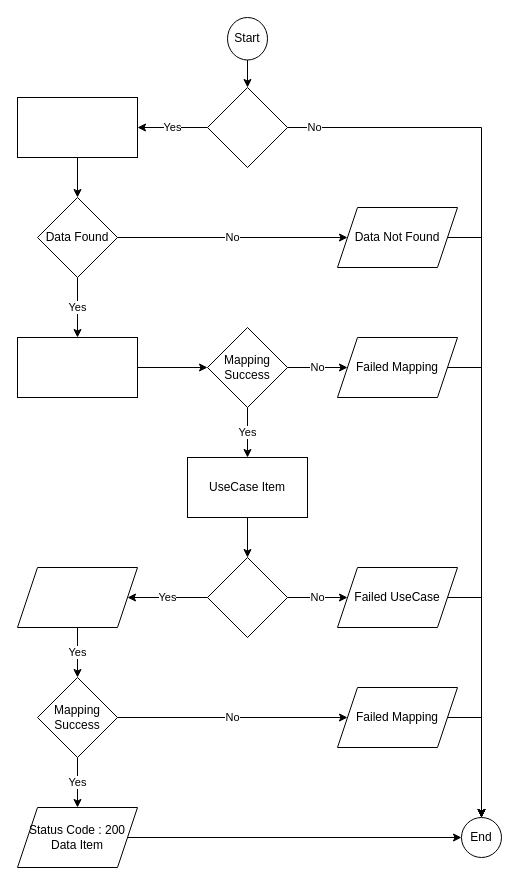
This 519x885 diagram has some shape labels left out. Each missing label, with the centre of its shape:
Connect Database: (247,127)
HTTP Mapping Response: (77,597)
Maping Item to Domain item: (77,367)
Send Query Select Item from Repository: (77,127)
UseCase Success: (247,597)
